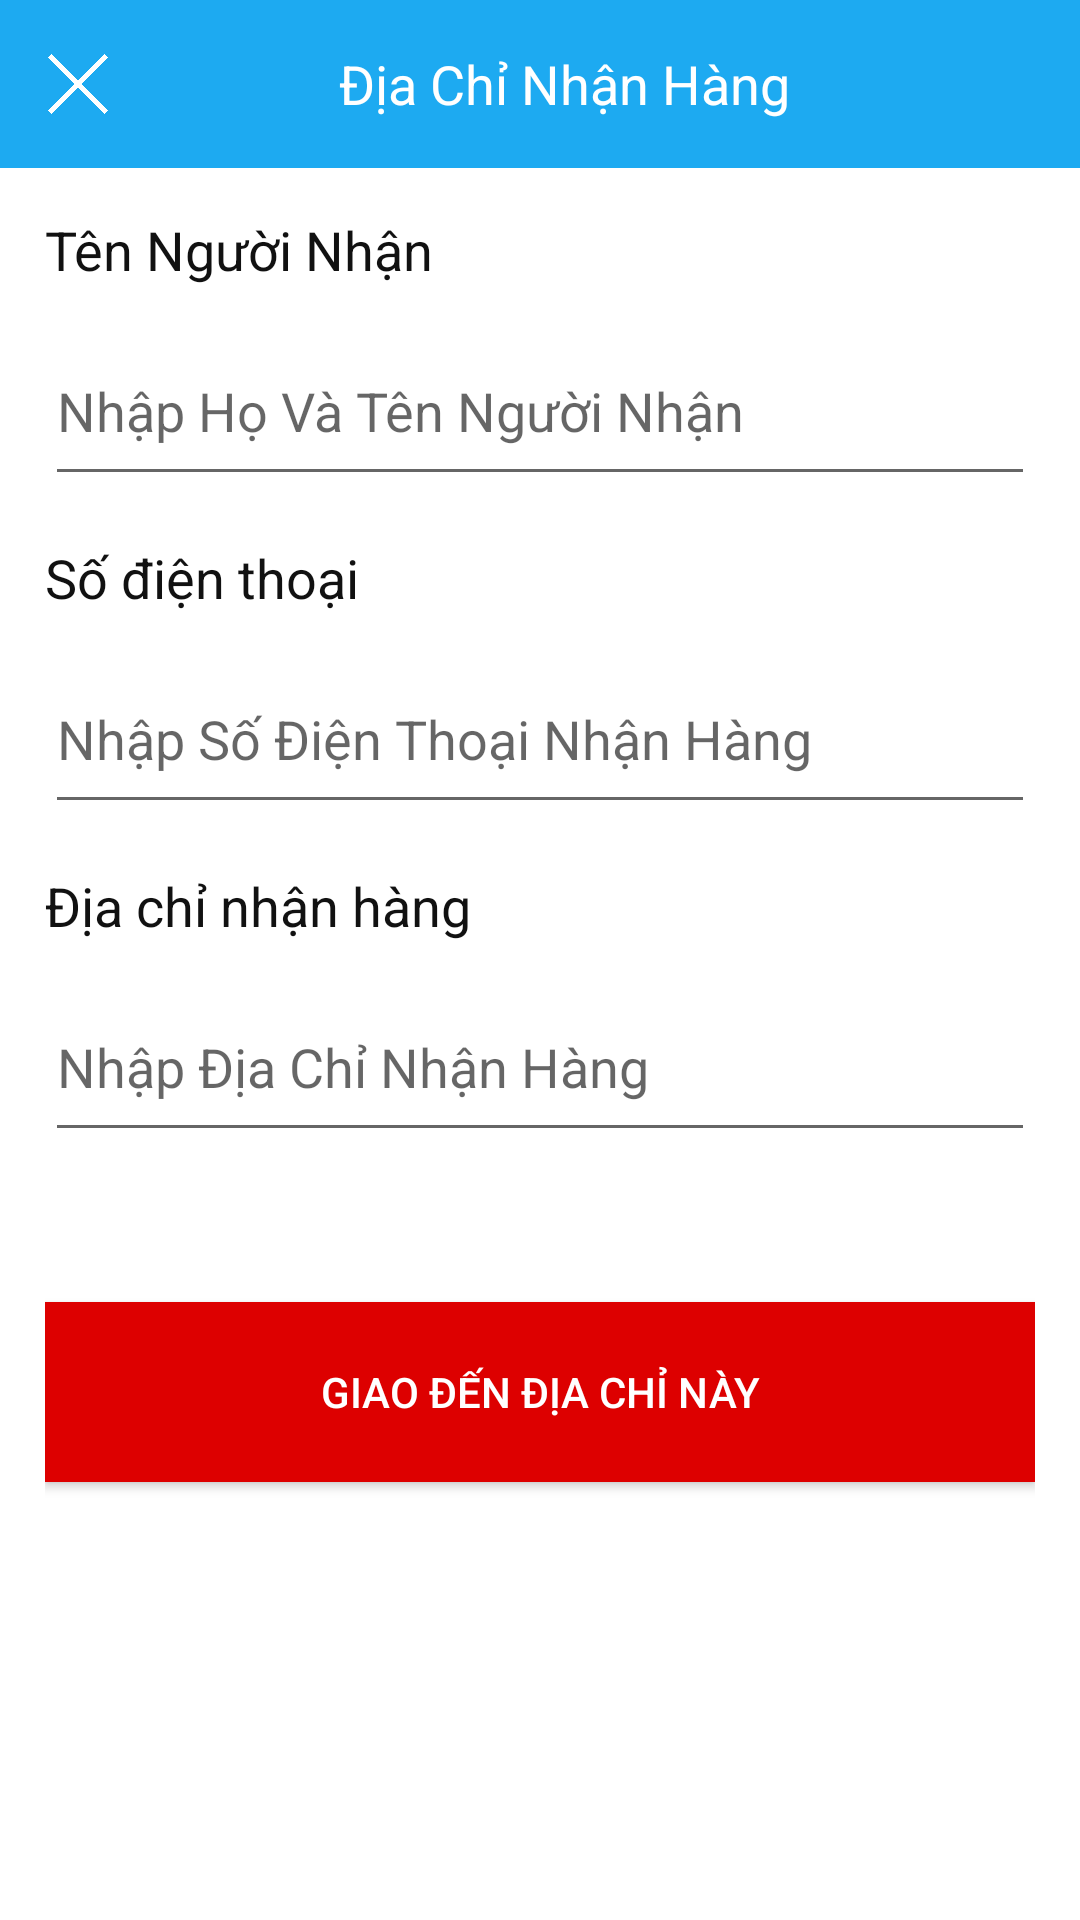

Where to tap for icons on this 1080px×1920px app screen, as [x,y]:
close: [78,84]
